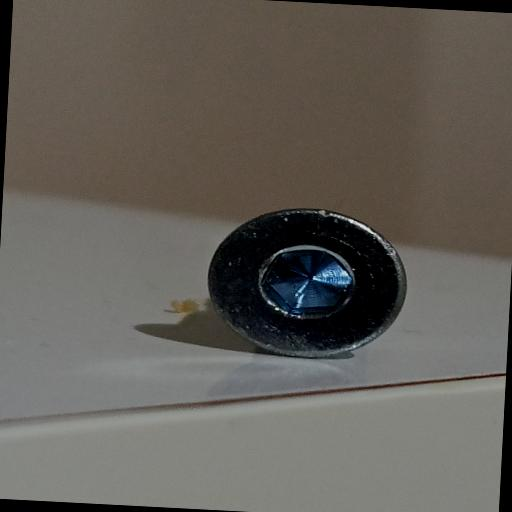Hex-Allen: (208, 209, 406, 358)
